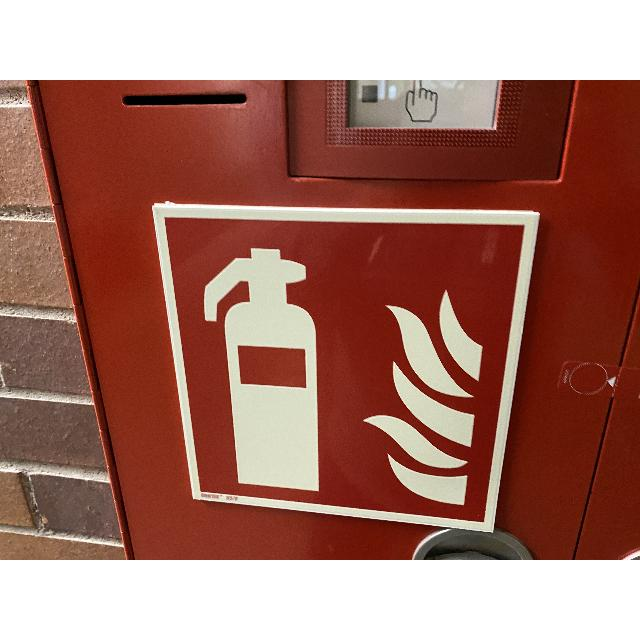fire extinguisher: (151, 205, 539, 533)
